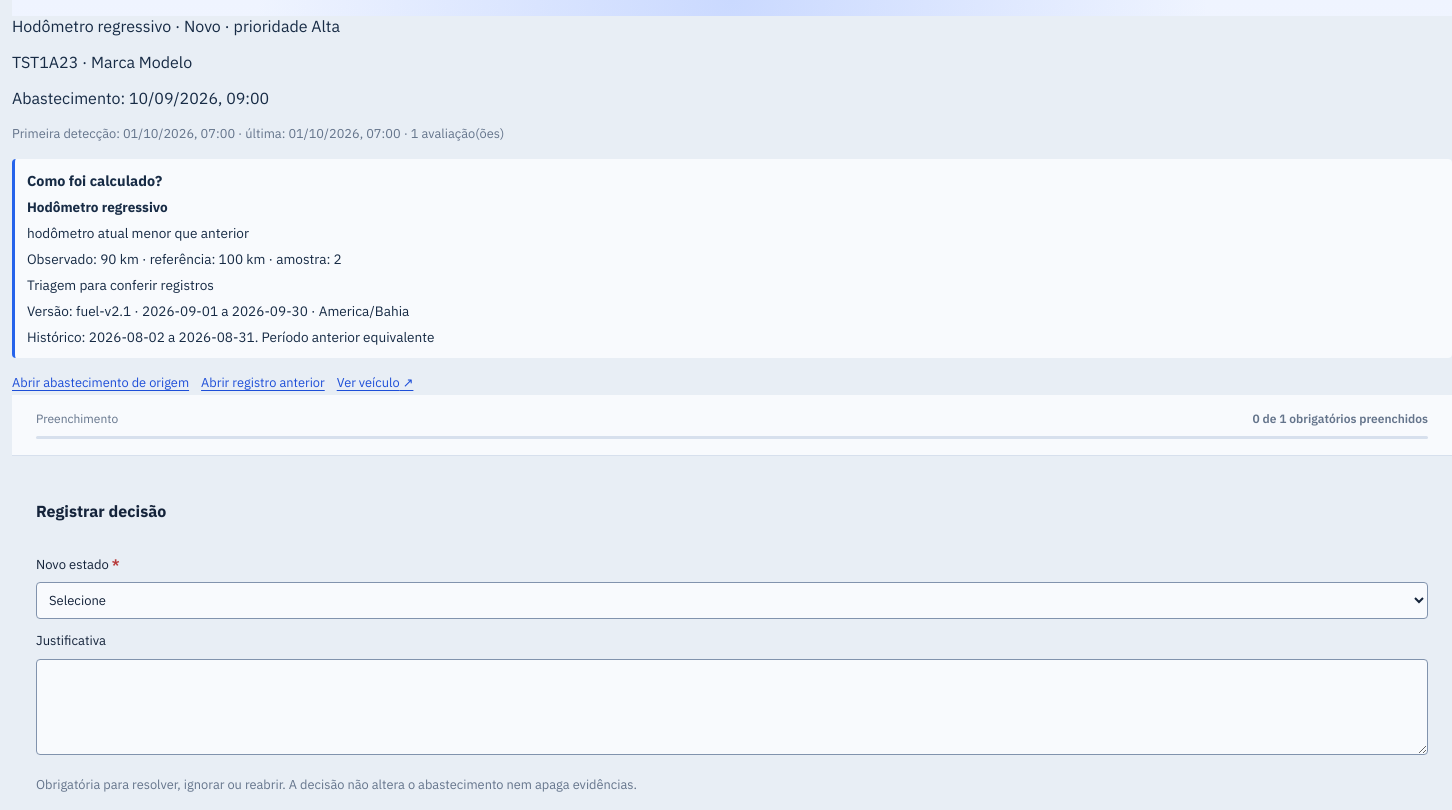
tratamento e evidência › reenvia o mesmo pedido idempotente quando o resultado de rede é desconhecido
This screenshot has width=1452, height=810.
Select "Em análise" in the dropdown labelled "Novo estado" at (732, 601), box 36,582 -> 1428,619
(page scrolled)
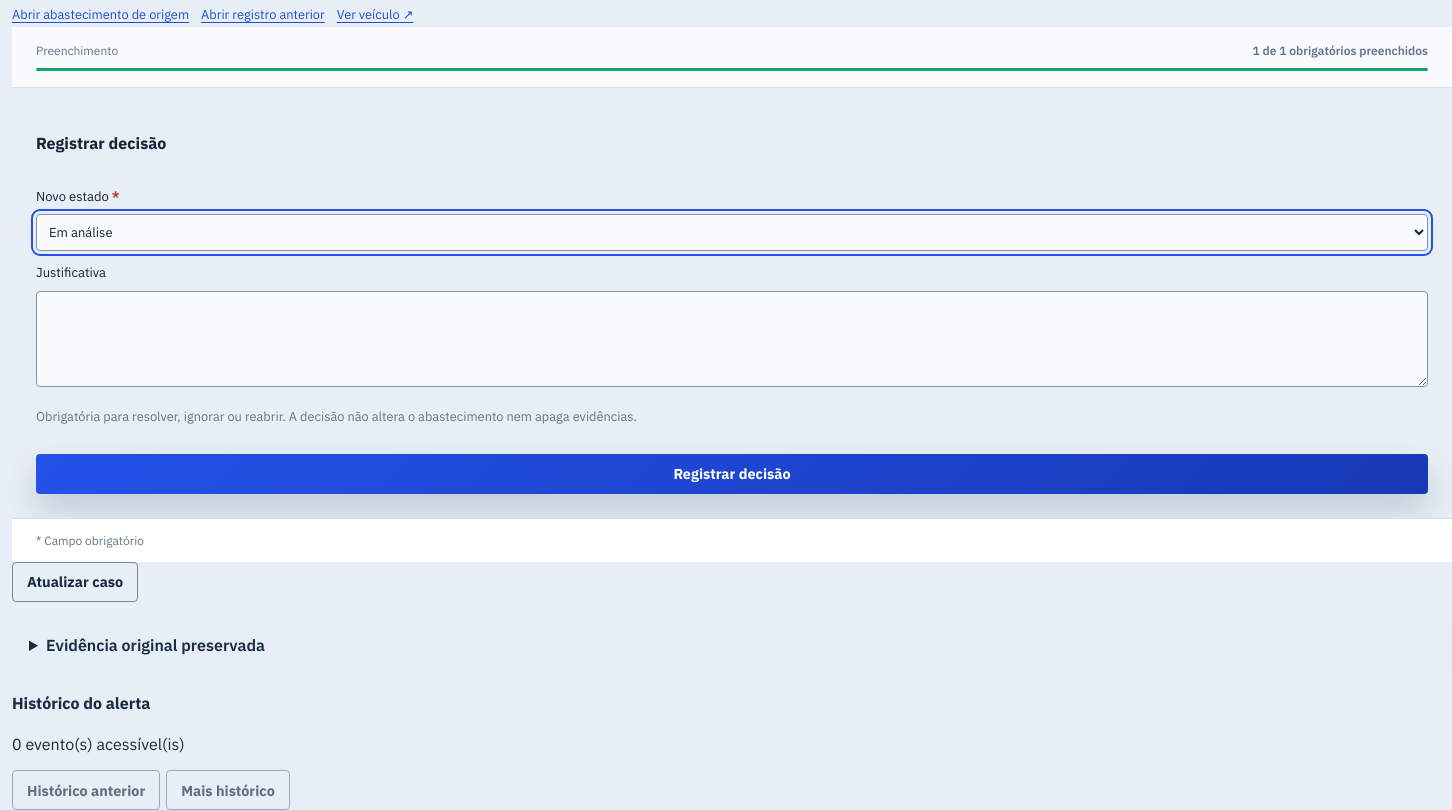
Click the button "Registrar decisão" at (732, 474), box 36,454 -> 1428,494
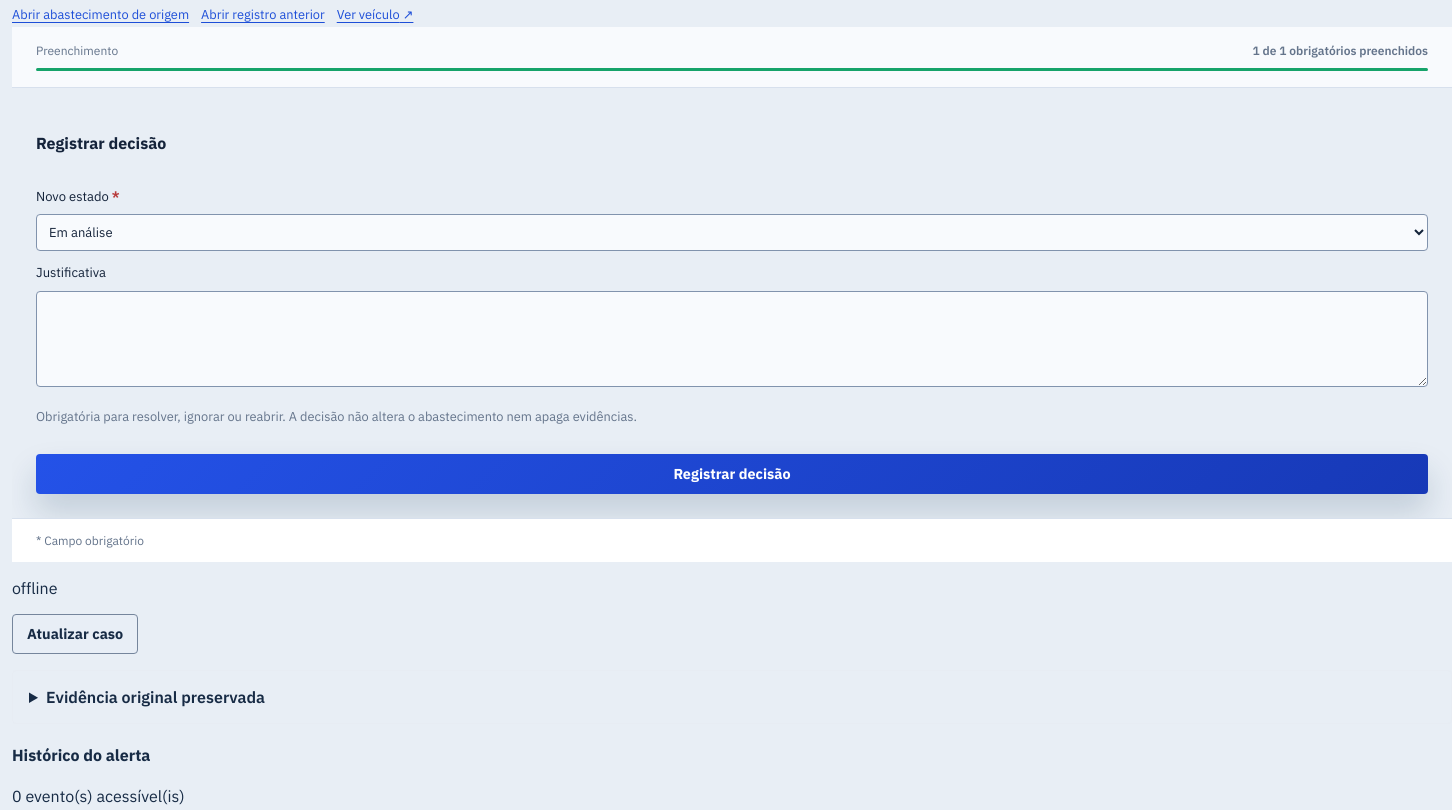
expect the message "offline" is shown: met, box 12,578 -> 58,598
Click the button "Registrar decisão" at (732, 474), box 36,454 -> 1428,494
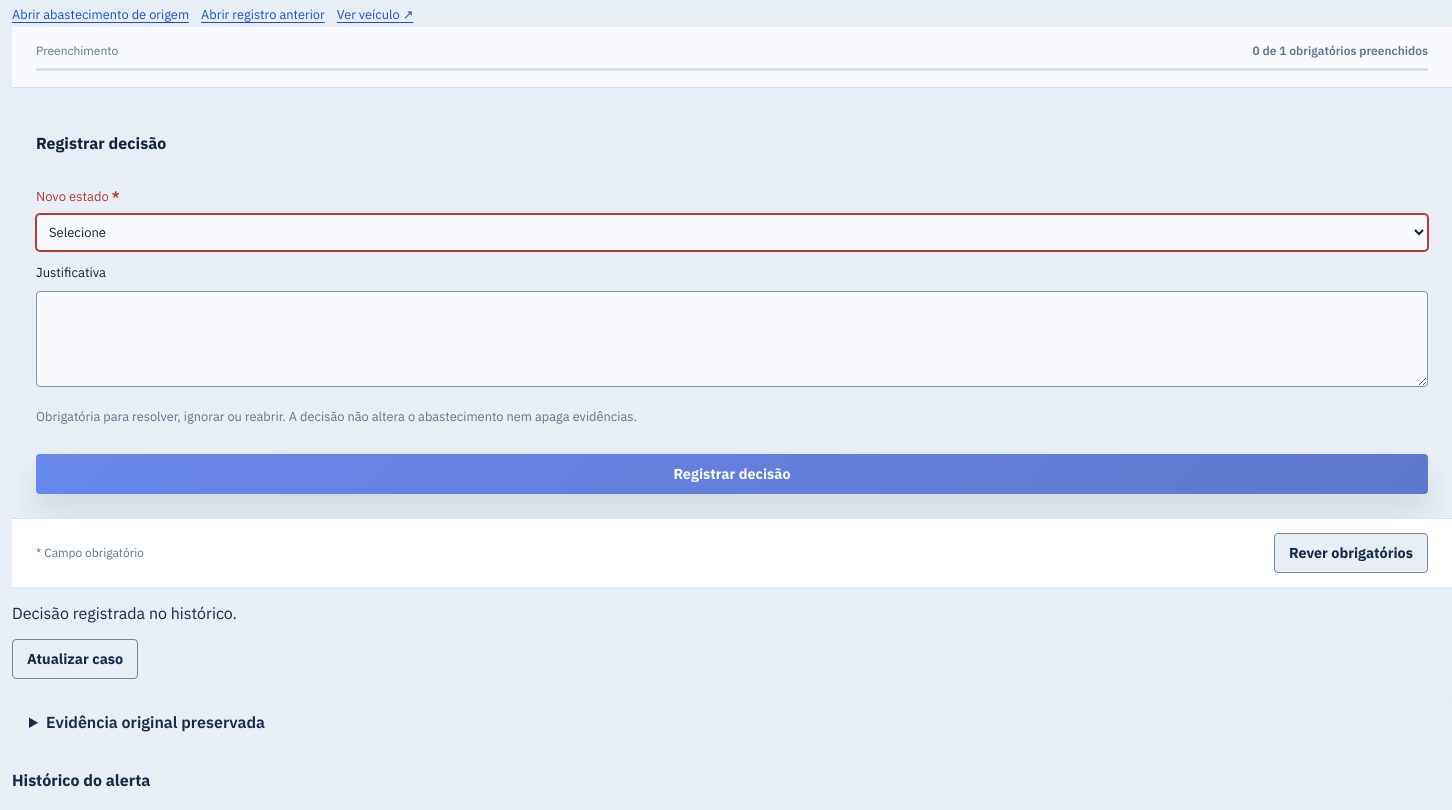
expect the text "Decisão registrada no histórico." is shown: met, box 12,603 -> 237,623
